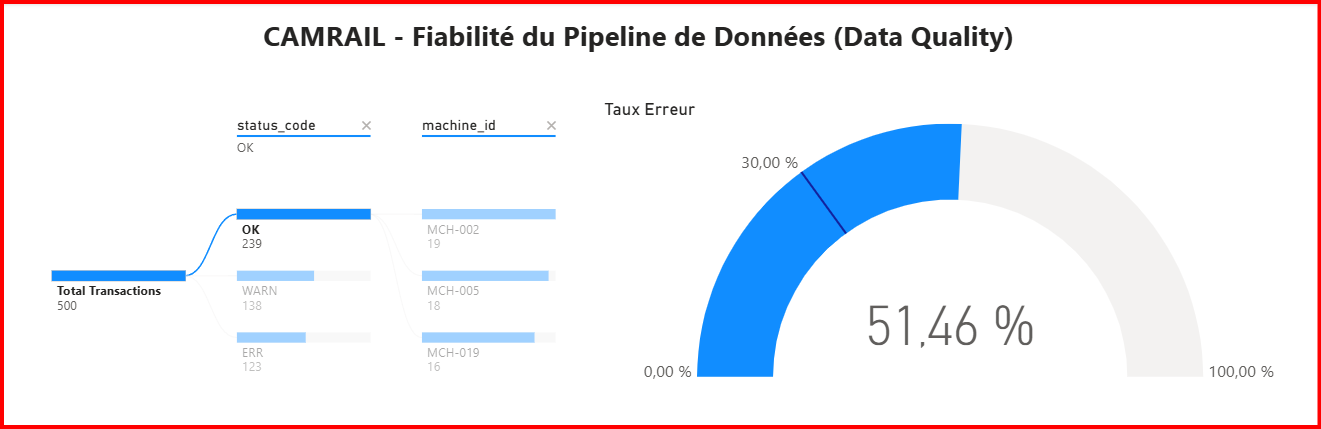

Layout of this report page (visuals, bound fields, positions):
{"tool":"powerbi","page":{"name":"04 - Fiabilité Pipeline","canvas":[1280,720],"ordinal":3},"visuals":[{"type":"decompositionTreeVisual","fields":{"Analyze":["_Mesures.Total Transactions"],"ExplainBy":["erp_daily_transactions.status_code","erp_daily_transactions.machine_id"]},"box":[17.5,93.4,562.2,280.1],"z":0},{"type":"gauge","fields":{"Y":["_Mesures.Taux Erreur"]},"box":[579.7,93.4,700.3,280.1],"z":1000},{"type":"textbox","box":[248,7.8,766.4,58.4],"z":1002}]}

Visuals, with their boxes on the page's 1280x720 design canvas (x1, y1, x2, y2). These are canvas units, not pixel positions in the 1321x429 screenshot, which may show the page scaled, cropped or inside an application window:
decompositionTreeVisual - _Mesures.Total Transactions x erp_daily_transactions.status_code: pyautogui.locateOnScreen(18, 93, 580, 374)
gauge - _Mesures.Taux Erreur: pyautogui.locateOnScreen(580, 93, 1280, 374)
textbox: pyautogui.locateOnScreen(248, 8, 1014, 66)
